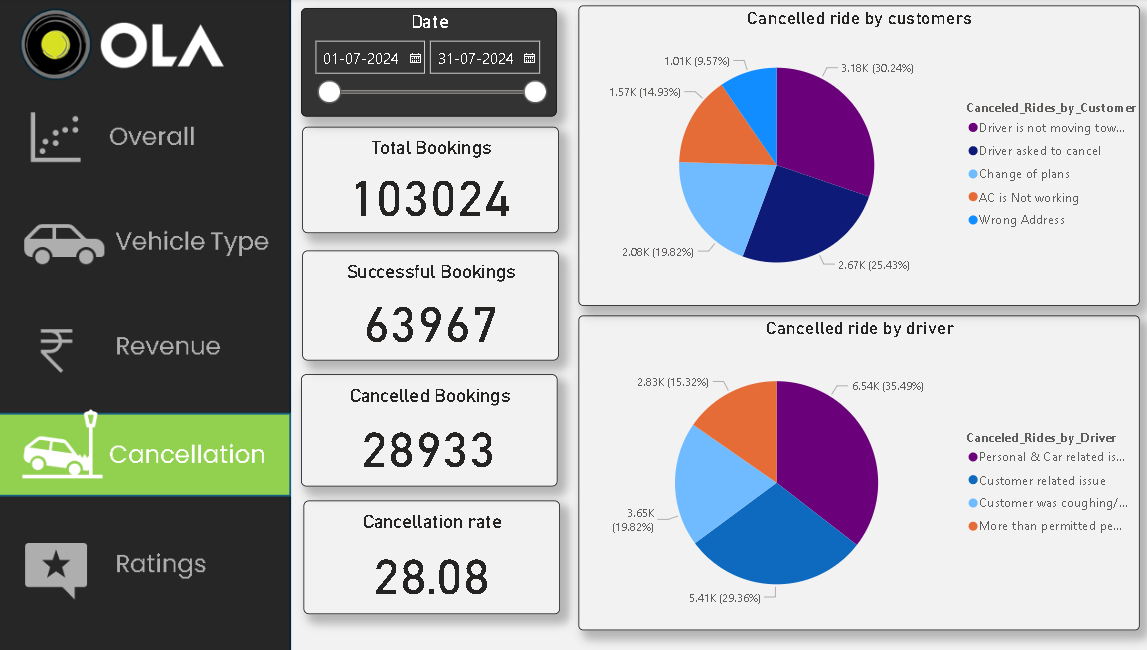

What the dashboard file says about the page in this screenshot:
{"tool":"powerbi","page":{"name":"Cancellation","canvas":[1280,720],"ordinal":3},"visuals":[{"type":"actionButton","box":[0,224.4,323.3,86.9],"z":0},{"type":"actionButton","box":[0,337.8,323.3,86.9],"z":1000},{"type":"actionButton","box":[0,109.8,323.3,86.9],"z":2000},{"type":"actionButton","box":[0,580.3,323.3,86.9],"z":3000},{"type":"pieChart","title":"Cancelled ride by customers","fields":{"Category":["July.Canceled_Rides_by_Customer"],"Y":["CountNonNull(July.Canceled_Rides_by_Customer)"]},"box":[639.5,8.2,616.1,329.3],"z":3001},{"type":"pieChart","title":"Cancelled ride by driver","fields":{"Category":["July.Canceled_Rides_by_Driver"],"Y":["CountNonNull(July.Canceled_Rides_by_Driver)"]},"box":[639.5,348.5,616.1,345.8],"z":3002},{"type":"card","title":"Total Bookings","fields":{"Values":["CountNonNull(July.Booking_ID)"]},"box":[336.2,141.3,281.3,116.6],"z":3003},{"type":"slicer","title":"Date","fields":{"Values":["July.Date"]},"box":[335.4,10.9,281.1,119.4],"z":3004},{"type":"card","title":"Successful Bookings","fields":{"Values":["CountNonNull(July.Booking_ID)"]},"box":[336.2,277.2,281.3,120.8],"z":3005},{"type":"card","title":"Cancelled Bookings","fields":{"Values":["CountNonNull(July.Booking_ID)"]},"box":[334.8,413,281.3,123.5],"z":3006},{"type":"card","title":"Cancellation rate","fields":{"Values":["July.CanceledPercentage"]},"box":[337.6,551.6,281.3,124.9],"z":3007}]}

Visuals, with their boxes in screenshot pixels (x1, y1, x2, y2):
actionButton: BBox(0, 200, 284, 279)
actionButton: BBox(0, 304, 284, 383)
actionButton: BBox(0, 95, 284, 174)
actionButton: BBox(0, 526, 284, 605)
"Cancelled ride by customers" pieChart: BBox(574, 2, 1138, 303)
"Cancelled ride by driver" pieChart: BBox(574, 313, 1138, 630)
"Total Bookings" card: BBox(296, 123, 554, 230)
"Date" slicer: BBox(295, 4, 553, 113)
"Successful Bookings" card: BBox(296, 248, 554, 359)
"Cancelled Bookings" card: BBox(295, 372, 553, 486)
"Cancellation rate" card: BBox(297, 499, 555, 614)
